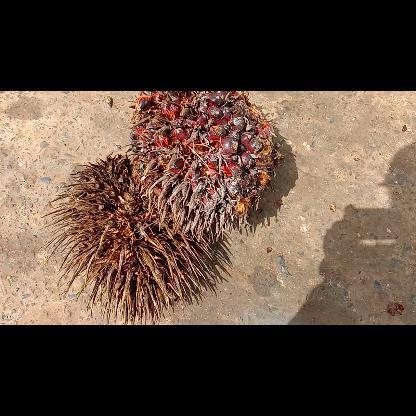Janjang kosong: (37, 152, 212, 324)
TBS masak: (128, 91, 284, 243)
